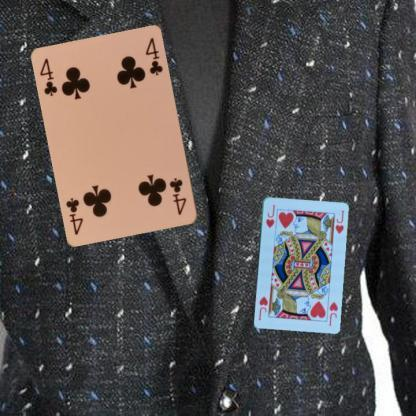4c: (167, 175, 188, 217), (38, 56, 58, 98)
Jh: (326, 299, 340, 327), (262, 202, 276, 229)
